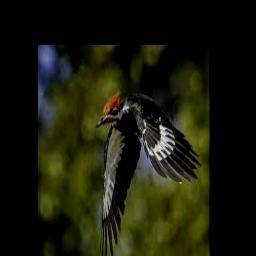Woodpecker: (96, 89, 202, 256)
